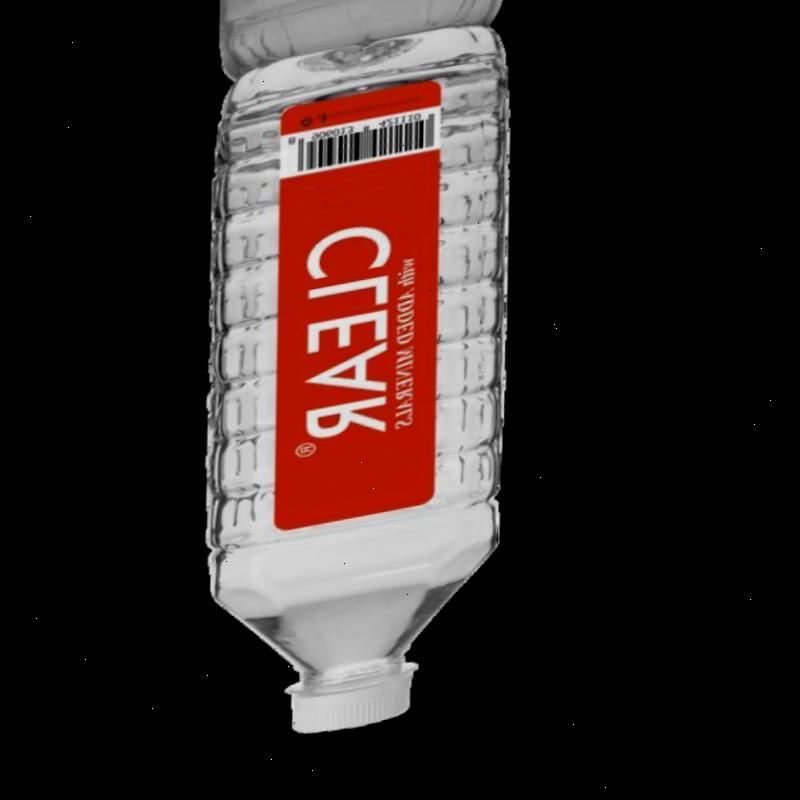botella: (141, 10, 581, 774)
